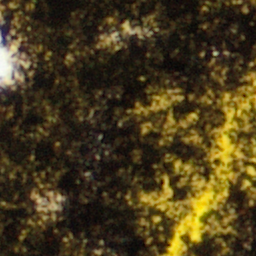cement_matrix: (0, 0, 255, 255), (181, 105, 255, 255), (38, 196, 59, 210), (156, 99, 166, 105), (126, 26, 131, 30), (109, 37, 112, 40)
cracks: (144, 78, 255, 255), (249, 169, 255, 175), (157, 100, 165, 104), (127, 27, 130, 29), (254, 154, 255, 156), (110, 38, 111, 39)
gravel_crushed_stones: (0, 32, 24, 87), (39, 197, 58, 209)
